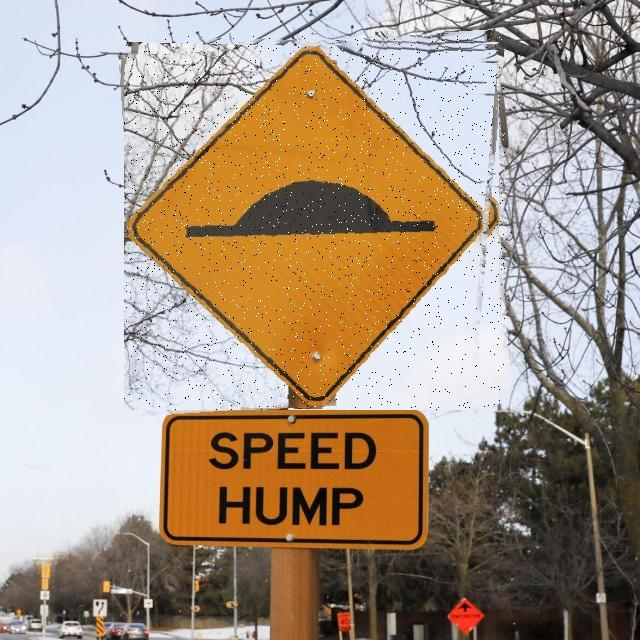hump: (124, 36, 505, 410)
